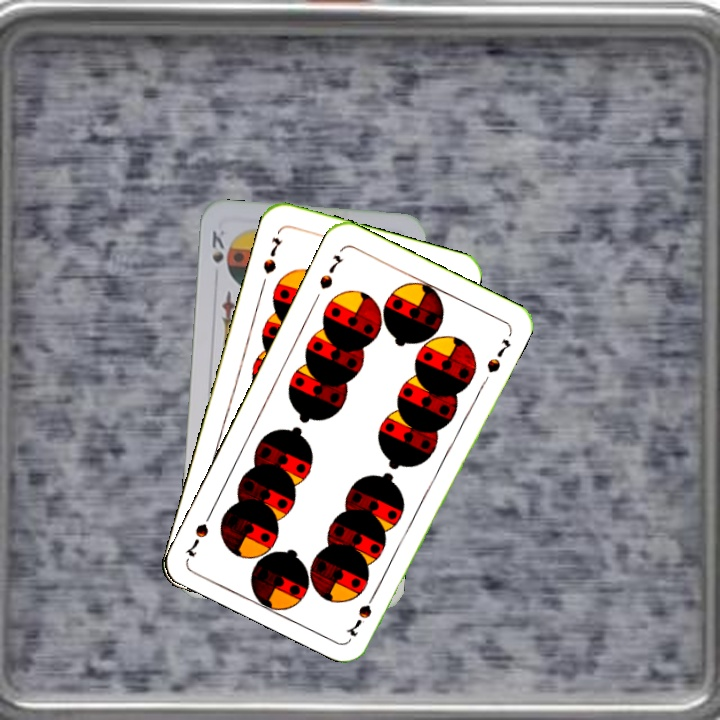S7: (344, 585, 381, 640), (315, 251, 346, 292), (259, 233, 286, 276)
SK: (207, 226, 228, 266)
